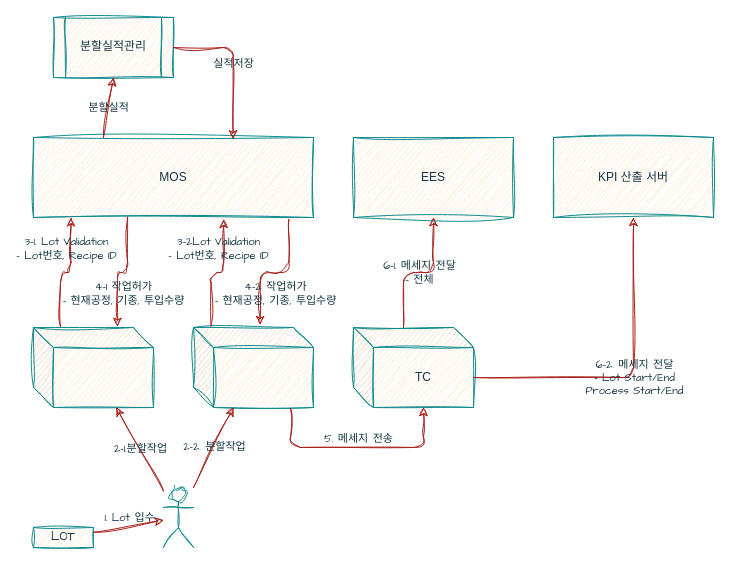
Some shapes in this 732 by 586 pixel diagram are drawn without their labels. Each missing label, with the centre of its shape:
Loding: (x=178, y=517)
설비1: (x=93, y=367)
설비2: (x=253, y=367)
